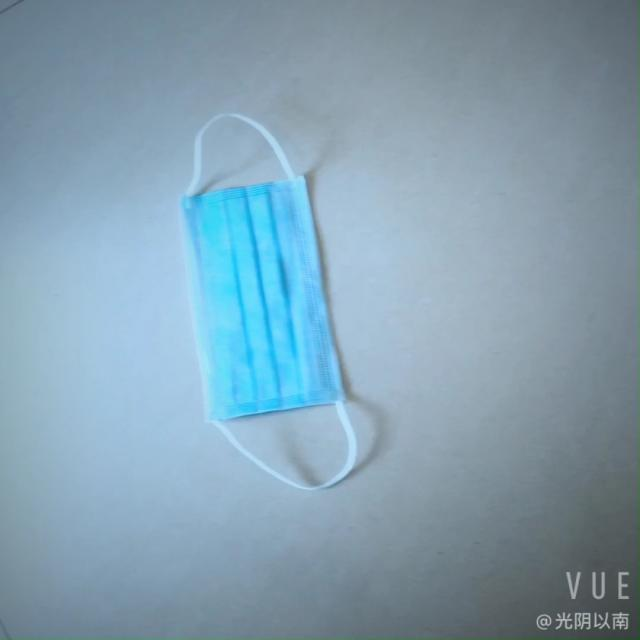face mask: (190, 165, 344, 432)
